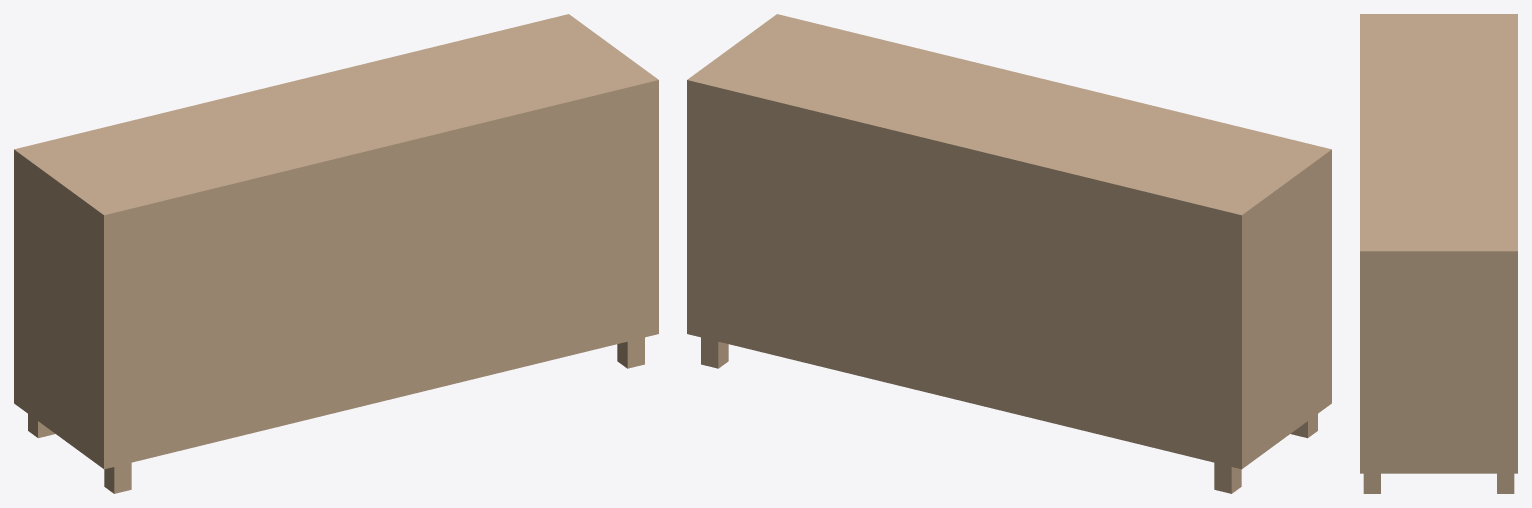
The model's file is cat-ia-aparador-lumen.glb.
3 renders of one model, left to right at view 1: azimuth 30°, elevation 25°; view 2: azimuth 150°, elevation 25°; view 3: azimuth 270°, elevation 25°, orthographic. The views are drawn at different scales.
Size of the model in its own units: 1.6 by 0.78 by 0.45.
